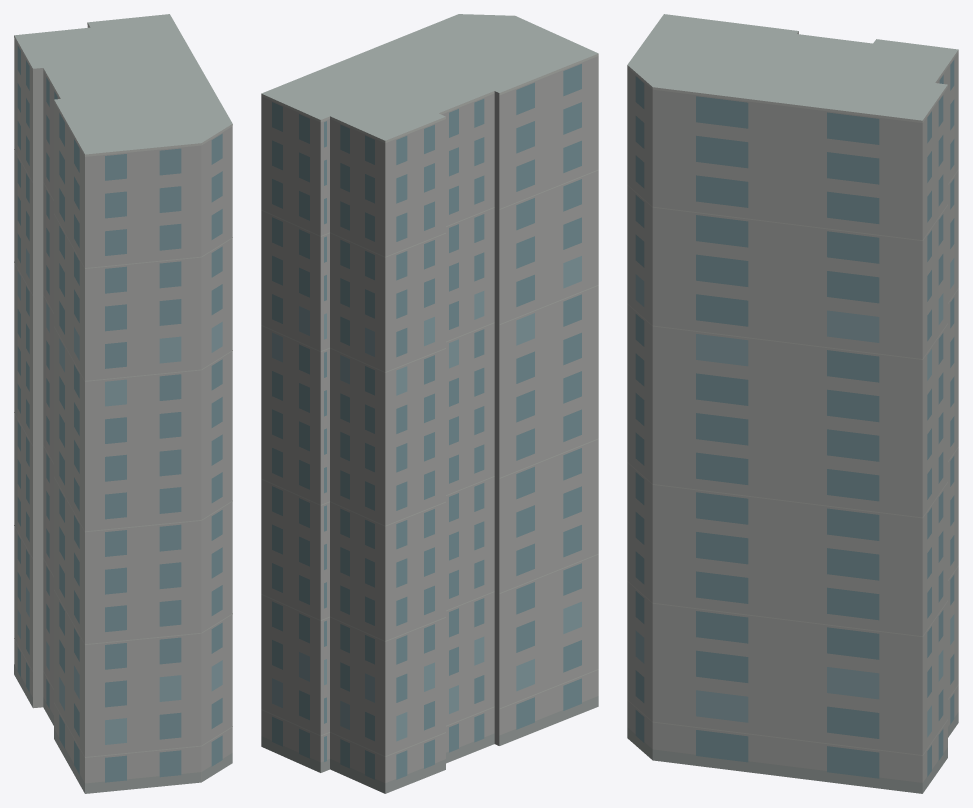
Rendered from survey-upis-32889721.glb.
3 renders of one model, left to right at view 1: azimuth 30°, elevation 25°; view 2: azimuth 150°, elevation 25°; view 3: azimuth 270°, elevation 25°, orthographic. The views are drawn at different scales.
Parts seen in each view (by area): view 1: survey-upis-32889721.tmp; view 2: survey-upis-32889721.tmp; view 3: survey-upis-32889721.tmp.
Part boxes in pixels (x1,y1,x2,y2): survey-upis-32889721.tmp: (14, 14, 232, 793); survey-upis-32889721.tmp: (261, 14, 598, 793); survey-upis-32889721.tmp: (627, 14, 958, 793).
Bounding box in the file's own units: 22.4 × 65.85 × 29.39.
